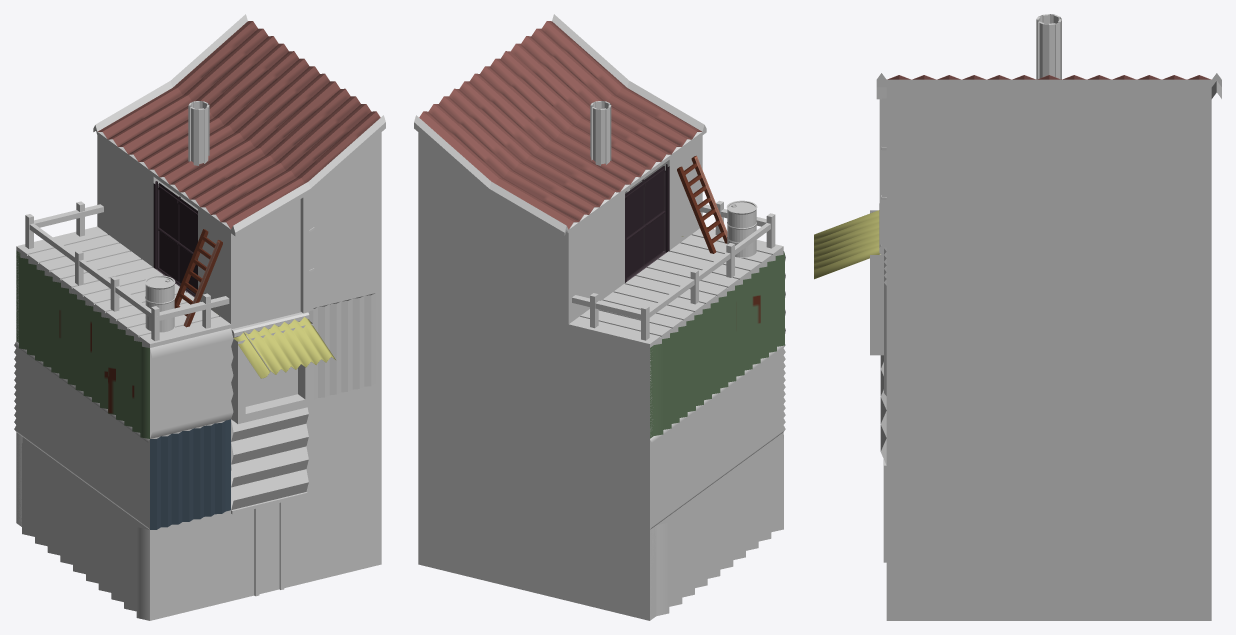
Rendered from Building_002_V5.fbx.
3 renders of one model, left to right at view 1: azimuth 30°, elevation 25°; view 2: azimuth 150°, elevation 25°; view 3: azimuth 270°, elevation 25°, orthographic. The views are drawn at different scales.
Visible parts, largest first — view 1: Cube.011, Cube.012, Cube.015, Cube.003, Cube.005, Cube.004, Cube.006, Cube.020, Cube.013, Cube.021, Cube.041, Cube.018 (+9 smaller); view 2: Cube.011, Cube.012, Cube.003, Cube.005, Cube.004, Cube.013, Cube.014, Cube.017, Ladder.002, Oil Barrel.002, Cylinder; view 3: Cube.011, Cube.008, Cylinder, Cube.007, Cube.016, Cube.012, Cube.018.
Part boxes in pixels (box(x1,y1,x2,y2)): Cube.011: box(16, 14, 385, 620); Cube.012: box(97, 21, 380, 229); Cube.015: box(231, 132, 381, 328); Cube.003: box(16, 250, 149, 438); Cube.005: box(16, 432, 149, 620); Cube.004: box(14, 341, 149, 529); Cube.006: box(150, 328, 233, 438); Cube.020: box(150, 419, 230, 529); Cube.013: box(97, 135, 230, 323); Cube.021: box(231, 492, 307, 600); Cube.041: box(306, 382, 381, 491); Cube.018: box(231, 407, 308, 509); Cube.011: box(414, 14, 783, 620); Cube.012: box(419, 21, 701, 229); Cube.003: box(650, 251, 784, 438); Cube.005: box(650, 435, 783, 620); Cube.004: box(650, 344, 785, 529); Cube.013: box(568, 135, 702, 323); Cube.014: box(625, 164, 669, 282); Cube.017: box(572, 200, 775, 340); Ladder.002: box(677, 155, 727, 253); Oil Barrel.002: box(726, 200, 757, 257); Cylinder: box(590, 101, 611, 165); Cube.011: box(876, 73, 1221, 620); Cube.008: box(814, 210, 880, 279); Cylinder: box(1036, 14, 1061, 79); Cube.007: box(870, 203, 883, 355); Cube.016: box(879, 98, 886, 247); Cube.012: box(887, 75, 1211, 79); Cube.018: box(880, 355, 886, 464).
Bounding box in the file's own units: 1014 × 1234 × 1830.
1 material, 1 textured.
